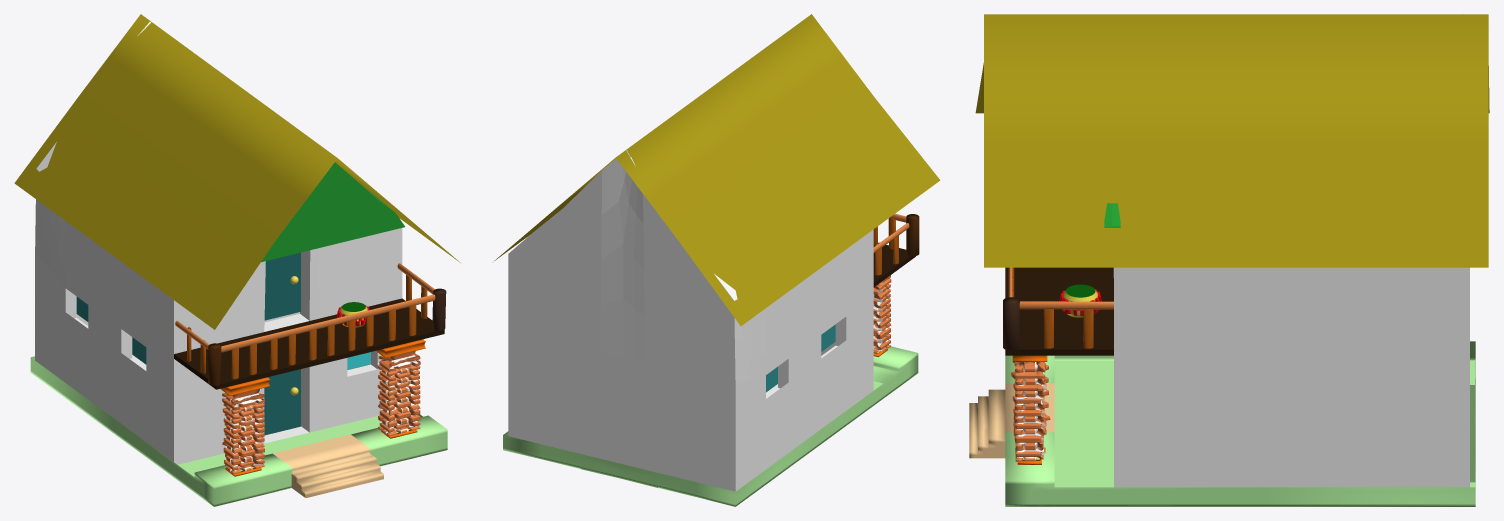
Rendered from maison_1.fbx.
The picture shows the model from 3 angles, left to right: view 1: azimuth 30°, elevation 25°; view 2: azimuth 150°, elevation 25°; view 3: azimuth 270°, elevation 25°; orthographic projection. The views are drawn at different scales.
Parts seen in each view (by area): view 1: Toit, Cube, Plane.002, Cube.005, Plane.005, Plane.011, Plane.010, Plane.007, Plane.006, Cube.006, Plane.009, Cube.010 (+2 smaller); view 2: Cube, Toit, Plane.002, Plane.011, Cube.005, Cube.008; view 3: Toit, Cube, Plane.002, Cube.005, Plane.010, Plane.011, Cube.010, Cube.011.
Part boxes in pixels (x1=…): Toit: x1=14, y1=14, x2=460, y2=329; Cube: x1=35, y1=21, x2=402, y2=464; Plane.002: x1=30, y1=356, x2=447, y2=506; Cube.005: x1=174, y1=298, x2=444, y2=389; Plane.005: x1=261, y1=162, x2=404, y2=262; Plane.011: x1=222, y1=351, x2=420, y2=474; Plane.010: x1=273, y1=434, x2=383, y2=497; Plane.007: x1=264, y1=252, x2=300, y2=320; Plane.006: x1=264, y1=369, x2=300, y2=435; Cube.006: x1=221, y1=294, x2=435, y2=352; Plane.009: x1=220, y1=339, x2=425, y2=476; Cube.010: x1=432, y1=288, x2=446, y2=330; Cube: x1=508, y1=150, x2=873, y2=491; Toit: x1=492, y1=14, x2=940, y2=325; Plane.002: x1=503, y1=346, x2=918, y2=506; Plane.011: x1=873, y1=275, x2=891, y2=353; Cube.005: x1=873, y1=245, x2=915, y2=287; Cube.008: x1=906, y1=214, x2=919, y2=256; Toit: x1=975, y1=14, x2=1489, y2=267; Cube: x1=1113, y1=267, x2=1469, y2=487; Plane.002: x1=1005, y1=341, x2=1475, y2=506; Cube.005: x1=1005, y1=267, x2=1113, y2=355; Plane.010: x1=969, y1=383, x2=1054, y2=458; Plane.011: x1=1011, y1=362, x2=1050, y2=461; Cube.010: x1=1003, y1=297, x2=1019, y2=350; Cube.011: x1=1019, y1=301, x2=1113, y2=309.
Size of the model in its own units: 1100 by 1369 by 1541.
